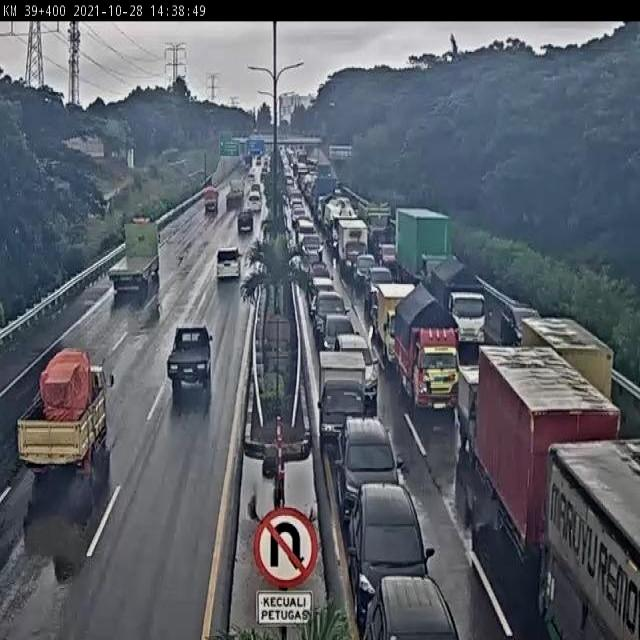Car: (344, 480, 438, 623), (334, 417, 405, 521), (362, 574, 461, 640), (335, 333, 378, 409), (499, 304, 543, 344), (312, 289, 351, 332), (322, 311, 356, 355), (366, 266, 394, 309), (354, 252, 376, 292), (216, 248, 242, 280), (300, 234, 322, 264), (296, 217, 315, 246), (380, 243, 398, 272), (237, 210, 254, 234), (311, 261, 330, 281), (250, 182, 262, 198)
Truck: (474, 341, 626, 567), (537, 431, 640, 640), (12, 348, 116, 483), (518, 314, 624, 407), (393, 285, 462, 415), (430, 253, 493, 348), (315, 350, 369, 450), (392, 205, 457, 282), (106, 215, 163, 301), (376, 282, 416, 367), (167, 324, 213, 389), (455, 361, 482, 456), (338, 217, 368, 280), (323, 197, 357, 251), (356, 199, 392, 247), (313, 177, 337, 224), (224, 177, 247, 210), (201, 185, 220, 213)
